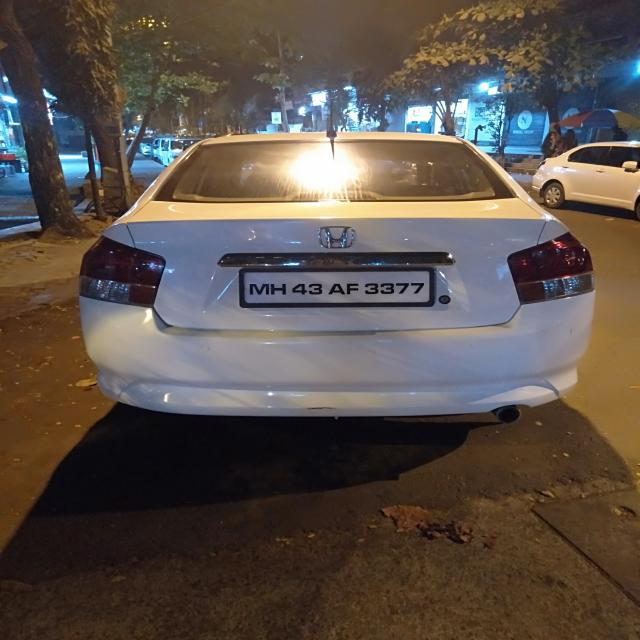Number-Plate: (240, 270, 430, 306)
